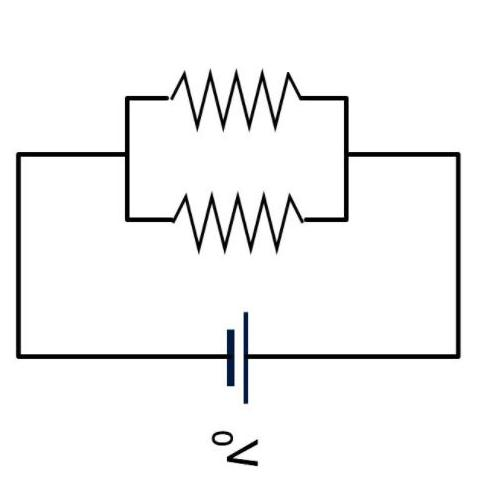resistor: (147, 49, 312, 146), (153, 181, 326, 262)
